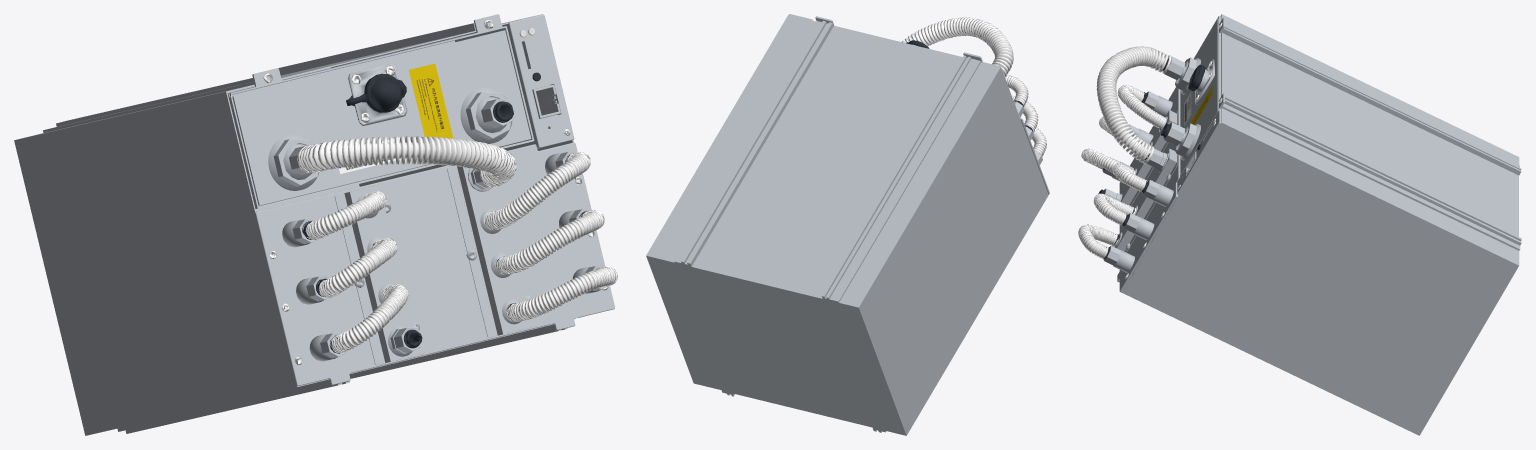
Rendered from s21-hydro-fast.glb.
The picture shows the model from 3 angles, left to right: view 1: azimuth 30°, elevation 25°; view 2: azimuth 150°, elevation 25°; view 3: azimuth 270°, elevation 25°; orthographic projection. The views are drawn at different scales.
Parts seen in each view (by area): view 1: S21 Hydro; view 2: S21 Hydro; view 3: S21 Hydro.
Boxes of the visible parts, left/top/right/bottom form: S21 Hydro: left=14, top=14, right=617, bottom=435; S21 Hydro: left=646, top=14, right=1049, bottom=435; S21 Hydro: left=1078, top=14, right=1521, bottom=435.
Bounding box in the file's own units: 0.5607 × 0.7801 × 0.9635.
Materials: 7 (2 with a texture image).
